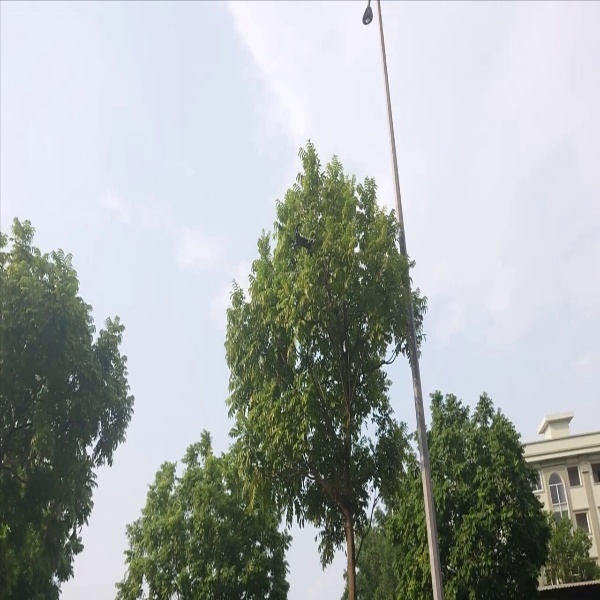drone: (287, 219, 319, 262)
